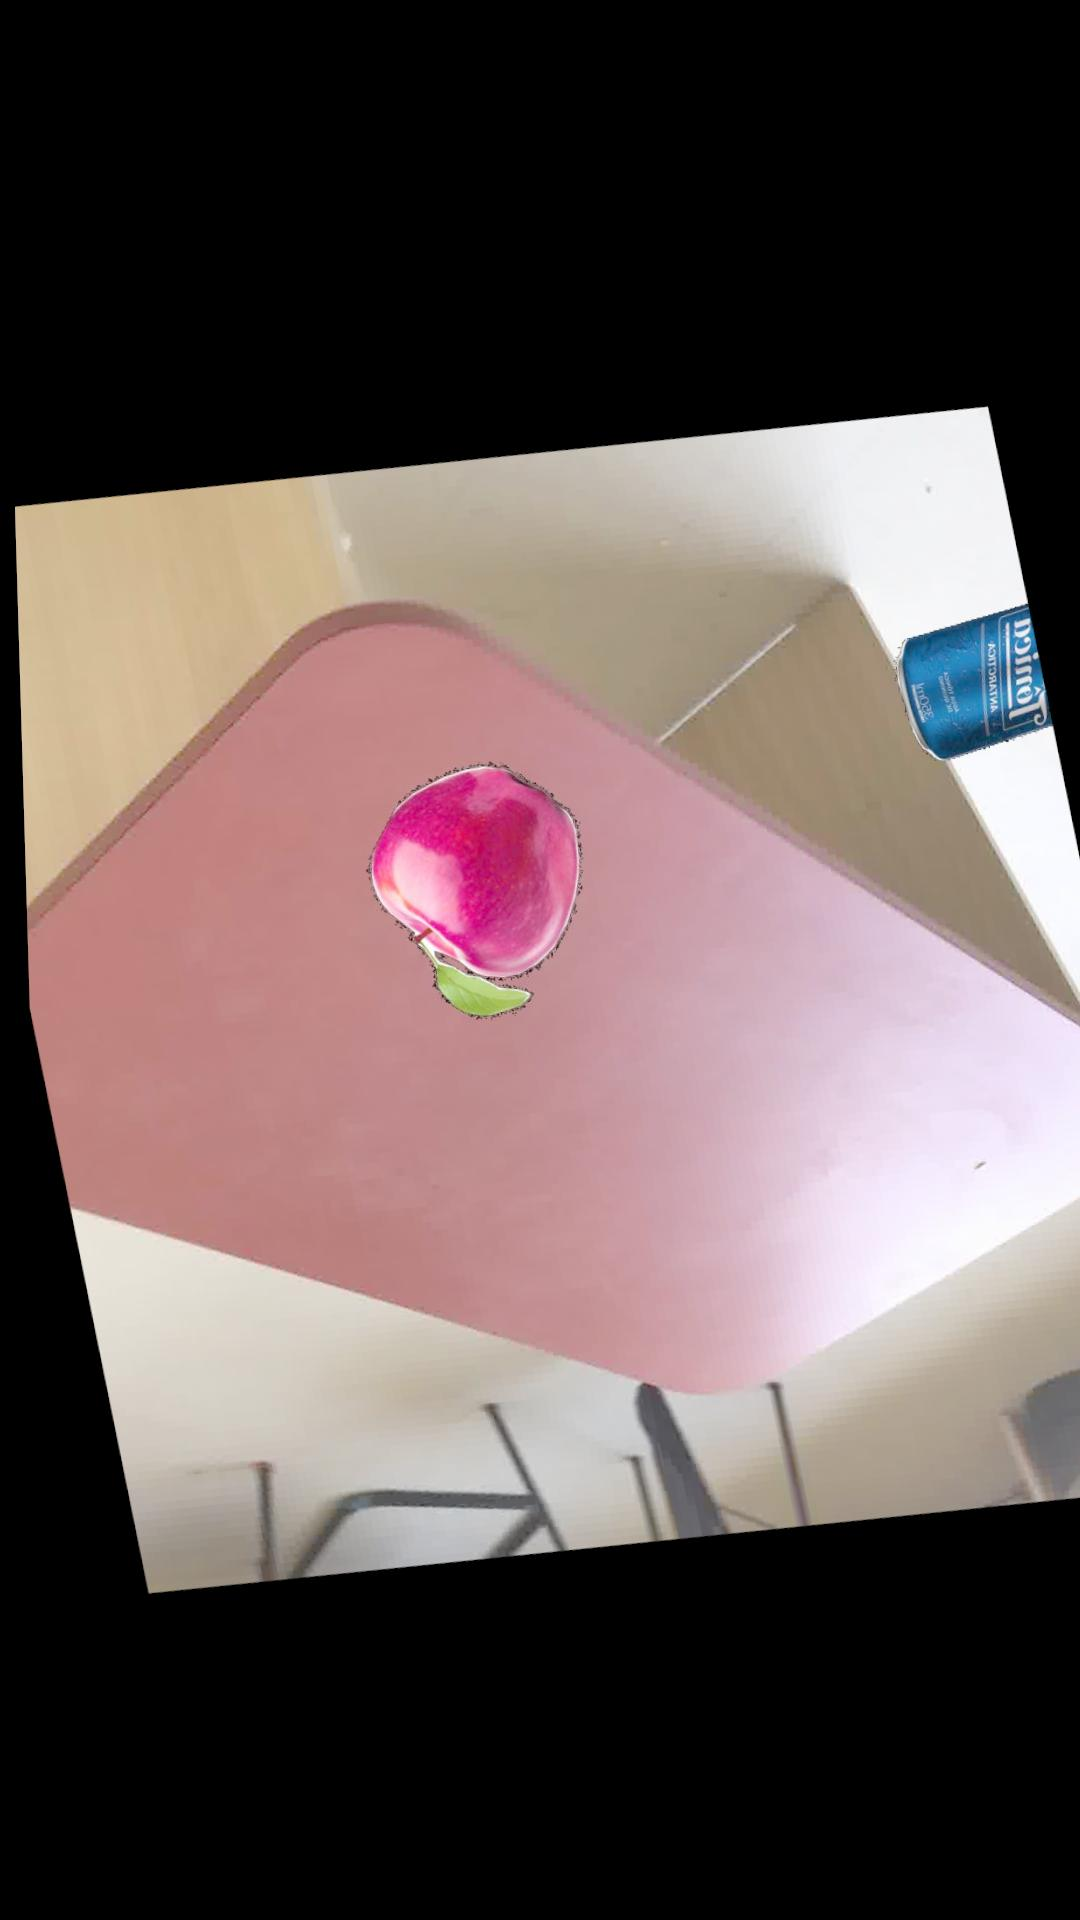apple: (360, 753, 574, 1011)
tonic: (889, 585, 1048, 746)
